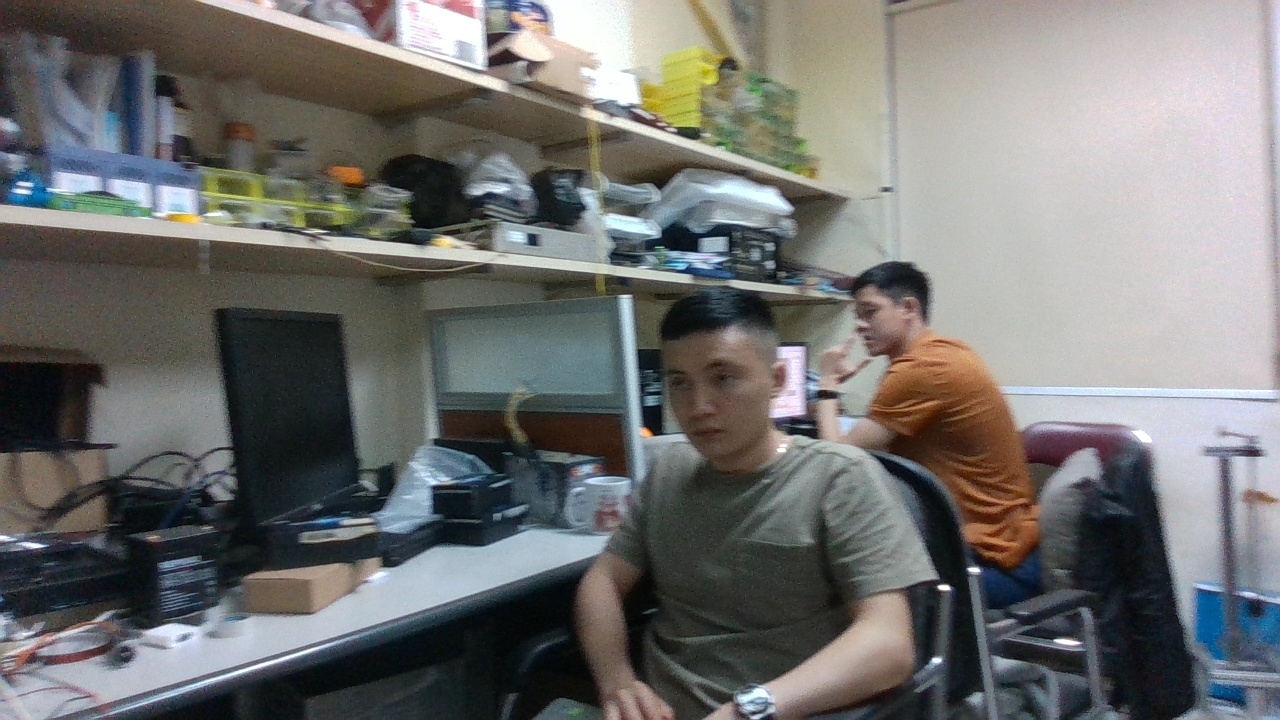person: (542, 290, 954, 720), (816, 260, 1047, 643)
